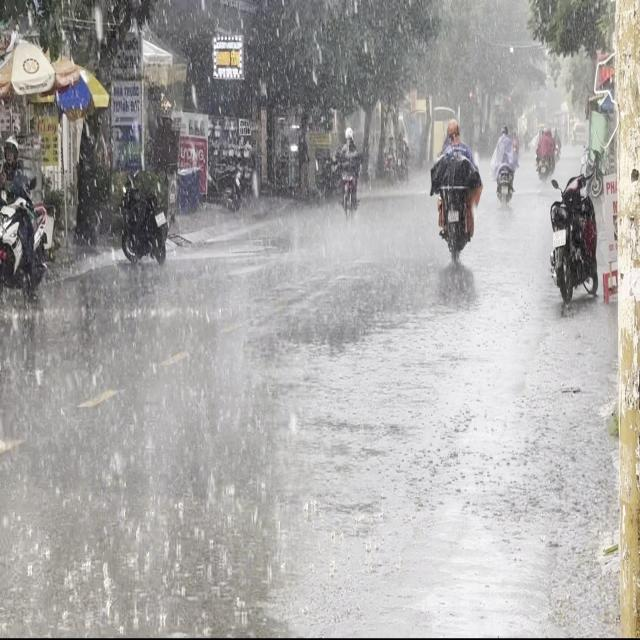helmet: (3, 136, 18, 165)
licenseplate: (0, 133, 51, 296)
